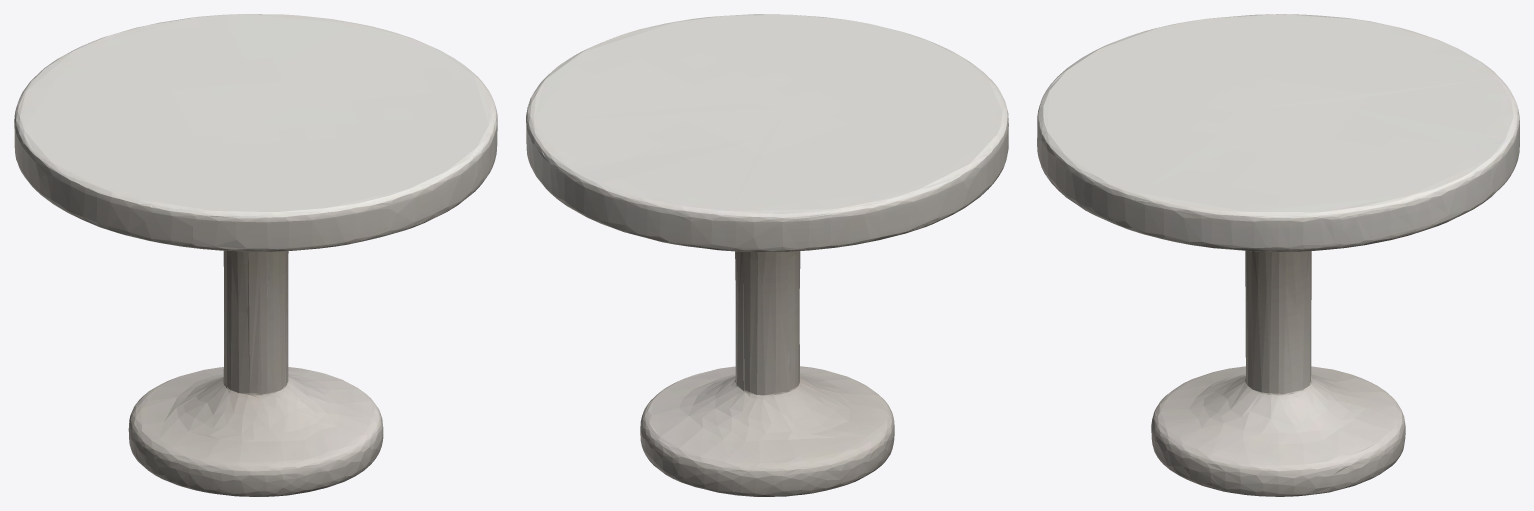
The model's file is cafe_table.glb.
3 renders of one model, left to right at view 1: azimuth 30°, elevation 25°; view 2: azimuth 150°, elevation 25°; view 3: azimuth 270°, elevation 25°, orthographic.
Parts seen in each view (by area): view 1: geometry_0; view 2: geometry_0; view 3: geometry_0.
Part boxes in pixels (x1,y1,x2,y2): geometry_0: (14,14,497,496); geometry_0: (526,14,1008,496); geometry_0: (1037,14,1519,496).
Size of the model in its own units: 0.9976 by 0.7588 by 0.9983.
Materials: 1 (1 with a texture image).
